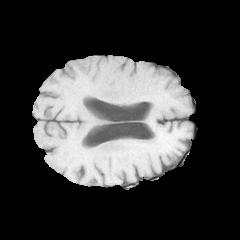glioma: (102, 137, 158, 165)
